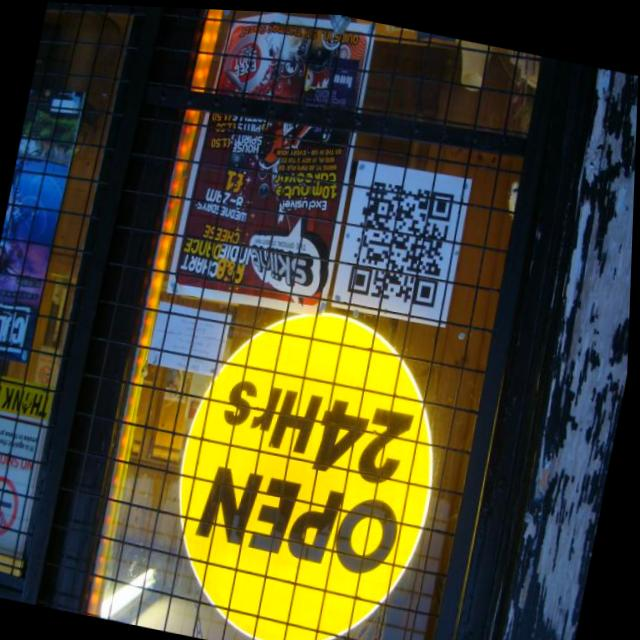qrcode: (349, 174, 457, 306)
